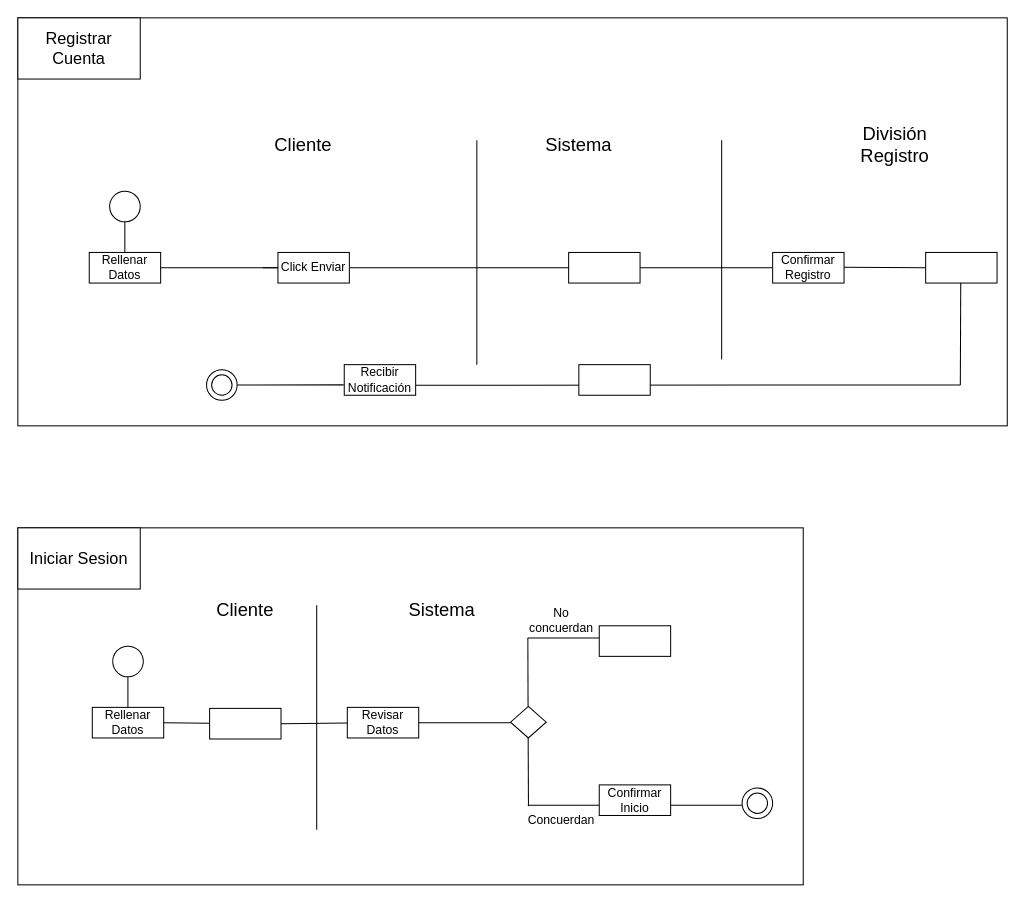
This 1025x903 diagram has some shape labels left out. The shapes that lost their labels are listed below. From the top down, each one's centre as x and y in pixels, then its label:
the point at 604,267: Guardar Información
the point at 961,267: Click Aceptar
the point at 614,379: Enviar Notificación
the point at 634,640: Muestra Error
the point at 245,723: Click Siguiente
